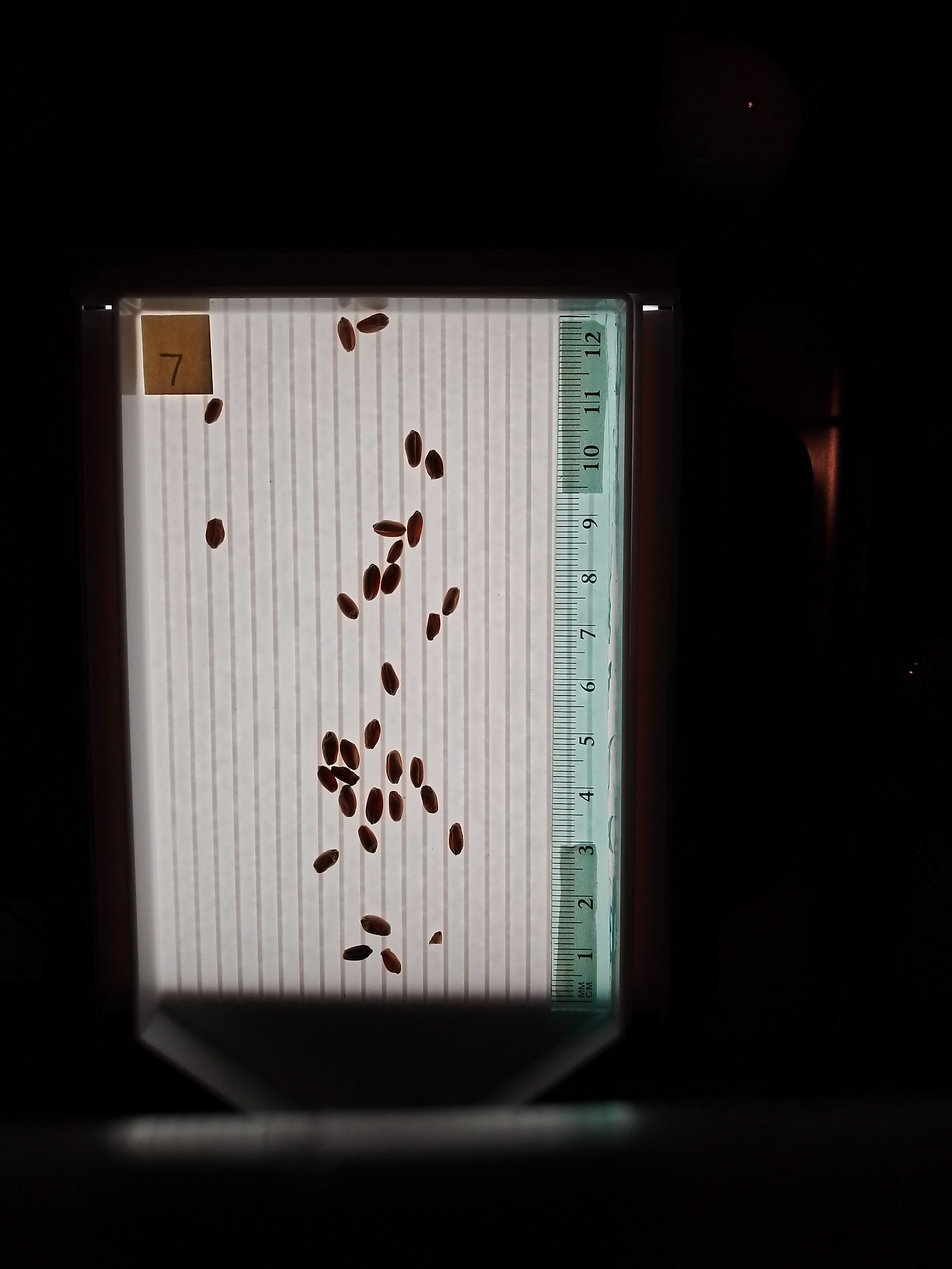seed mask: (357, 313, 388, 335), (361, 914, 390, 936), (366, 789, 384, 824), (362, 565, 380, 600), (205, 518, 225, 549), (405, 431, 422, 467), (314, 849, 339, 873), (381, 565, 401, 595), (338, 318, 356, 351), (381, 664, 400, 694), (340, 740, 359, 770), (407, 512, 423, 547), (373, 519, 404, 537), (425, 450, 444, 479), (358, 826, 378, 853), (322, 733, 339, 764), (339, 788, 357, 817), (344, 944, 372, 962), (337, 595, 358, 619), (442, 587, 460, 615), (318, 766, 337, 792), (364, 720, 381, 749), (387, 751, 402, 783), (381, 949, 401, 973), (421, 786, 438, 813), (449, 824, 464, 854), (334, 766, 357, 785), (205, 399, 222, 424), (389, 792, 403, 821), (410, 757, 424, 786), (426, 614, 440, 639), (387, 541, 403, 562)
